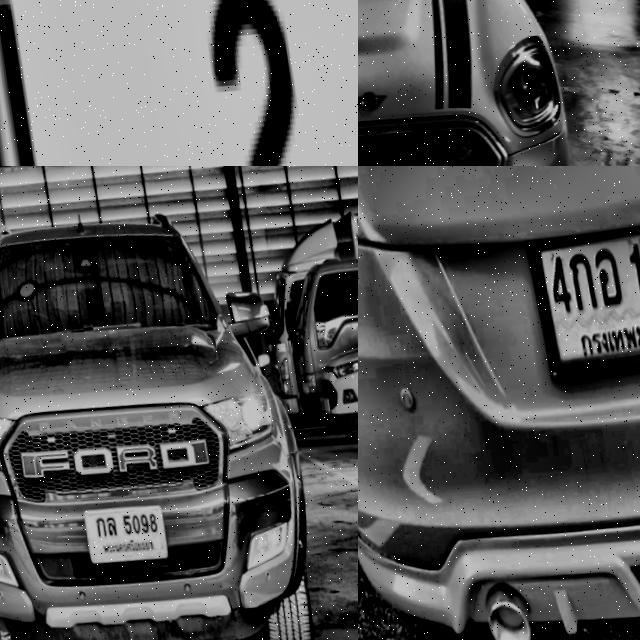license-plate: (0, 0, 358, 166), (522, 193, 640, 391), (79, 496, 166, 565)
